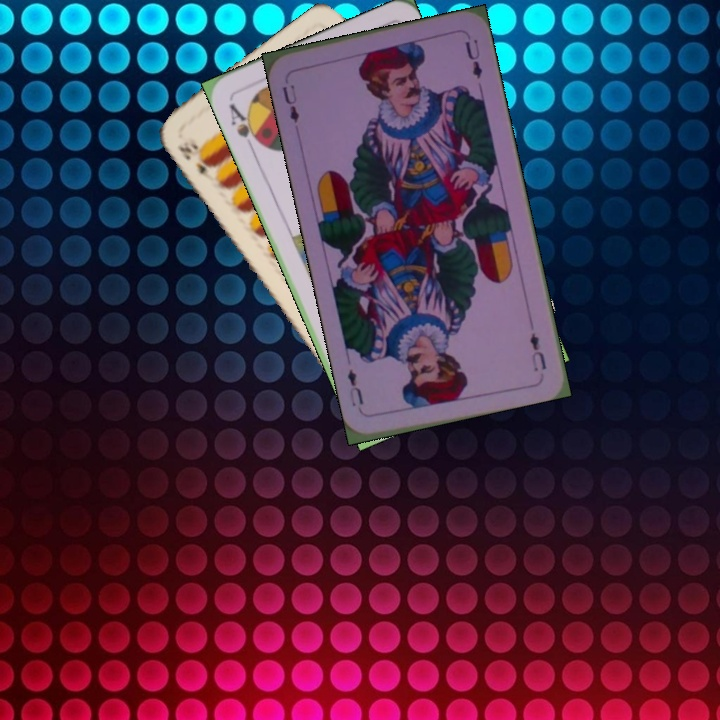E10: (173, 139, 216, 185)
EU: (525, 329, 550, 374), (278, 80, 302, 126)
SA: (225, 99, 265, 148)
